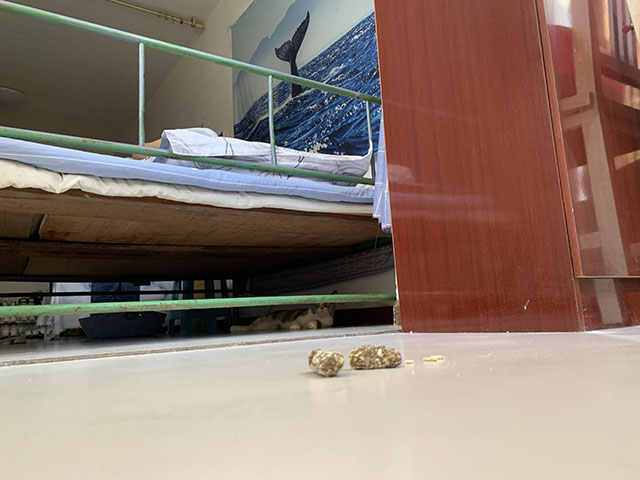bed: (1, 1, 396, 320)
cabinet: (374, 1, 640, 334)
feces: (305, 342, 403, 379)
